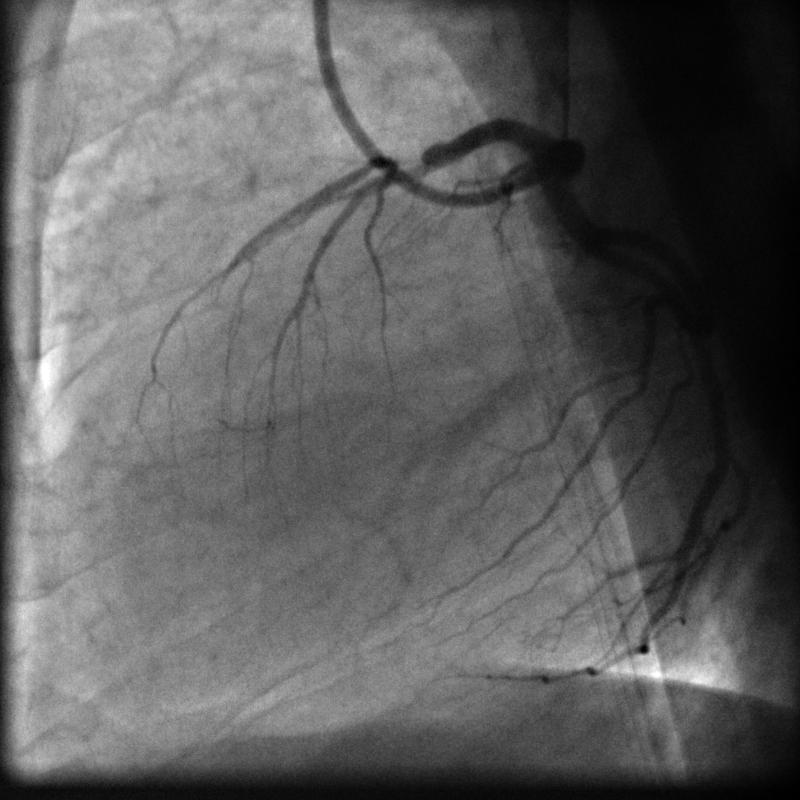Stenosis: (374, 144, 436, 187)
